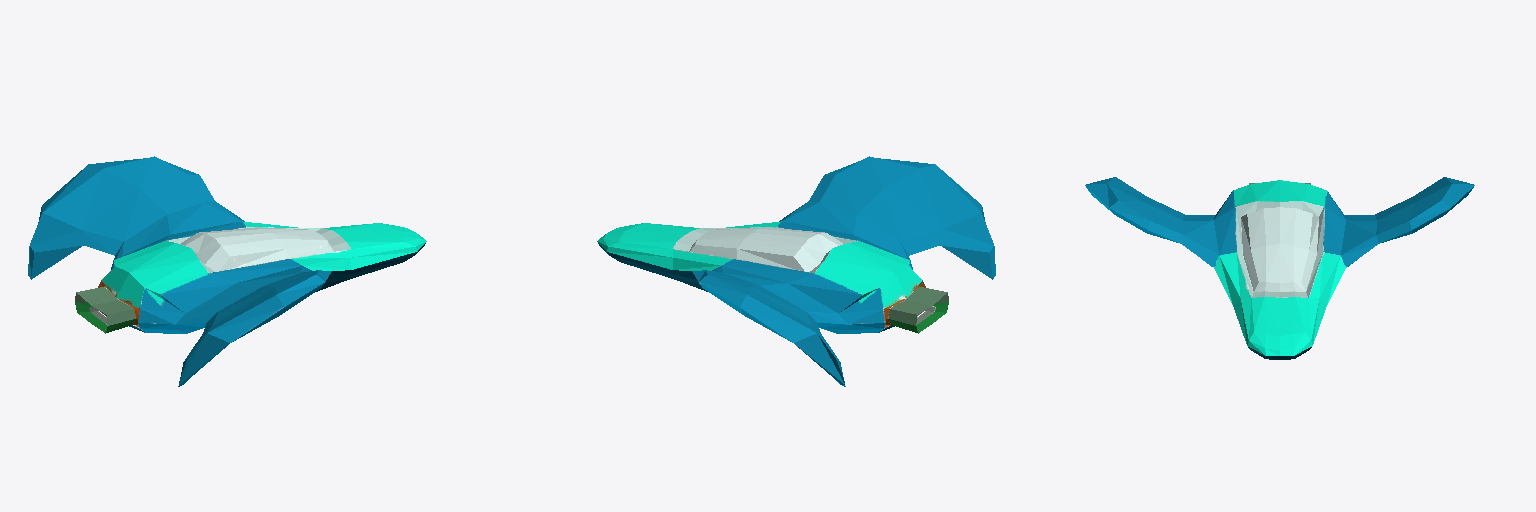
3 renders of one model, left to right at view 1: azimuth 30°, elevation 25°; view 2: azimuth 150°, elevation 25°; view 3: azimuth 270°, elevation 25°, orthographic.
Visible parts, largest first — view 1: shipobj:Mesh; view 2: shipobj:Mesh; view 3: shipobj:Mesh.
Boxes of the visible parts, <box> form: shipobj:Mesh: <box>28,156,426,386</box>; shipobj:Mesh: <box>597,156,995,386</box>; shipobj:Mesh: <box>1085,177,1474,359</box>.
Size of the model in its own units: 6.97 by 1.84 by 7.17.
1 materials, 1 textured.